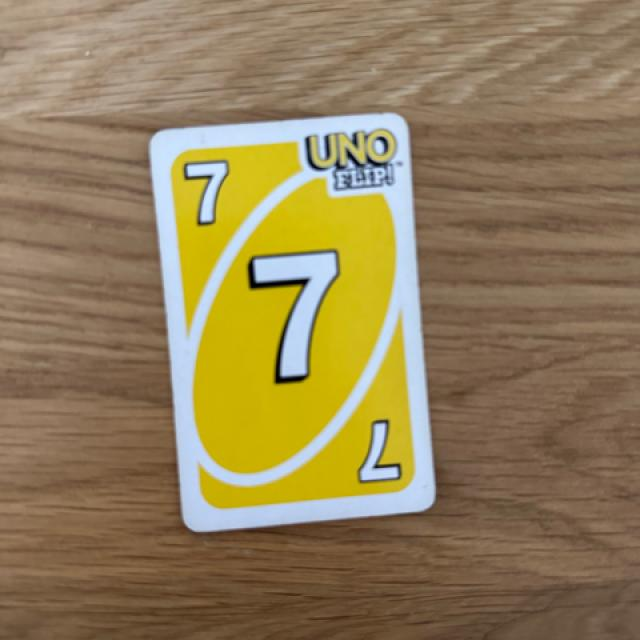lyellow-7: (162, 140, 250, 243)
